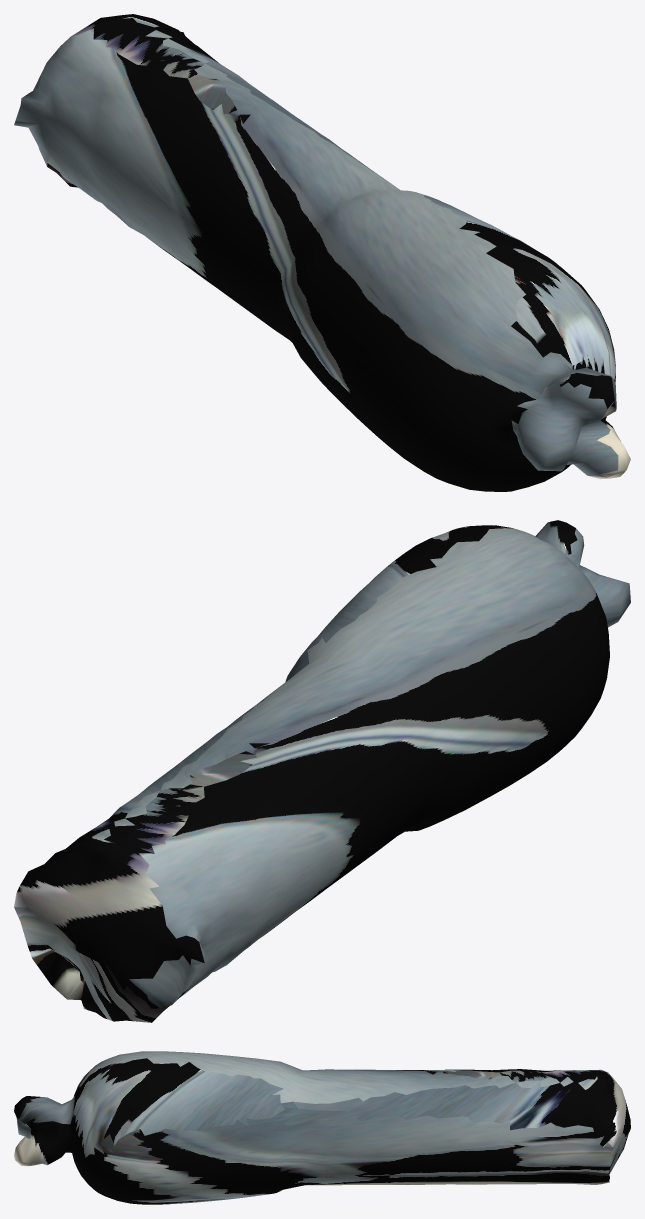
Rendered from scan_align.obj.
3 views of the same model, one above another, from view 1: azimuth 30°, elevation 25°; view 2: azimuth 150°, elevation 25°; view 3: azimuth 270°, elevation 25° (orthographic). The views are drawn at different scales.
Size of the model in its own units: 0.0264 by 0.0264 by 0.1061.
